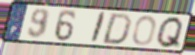6: (54, 9, 77, 43)
9: (26, 7, 50, 40)
D: (100, 12, 134, 46)
I: (89, 11, 108, 44)
O: (131, 15, 158, 47)
Q: (154, 16, 185, 50)
